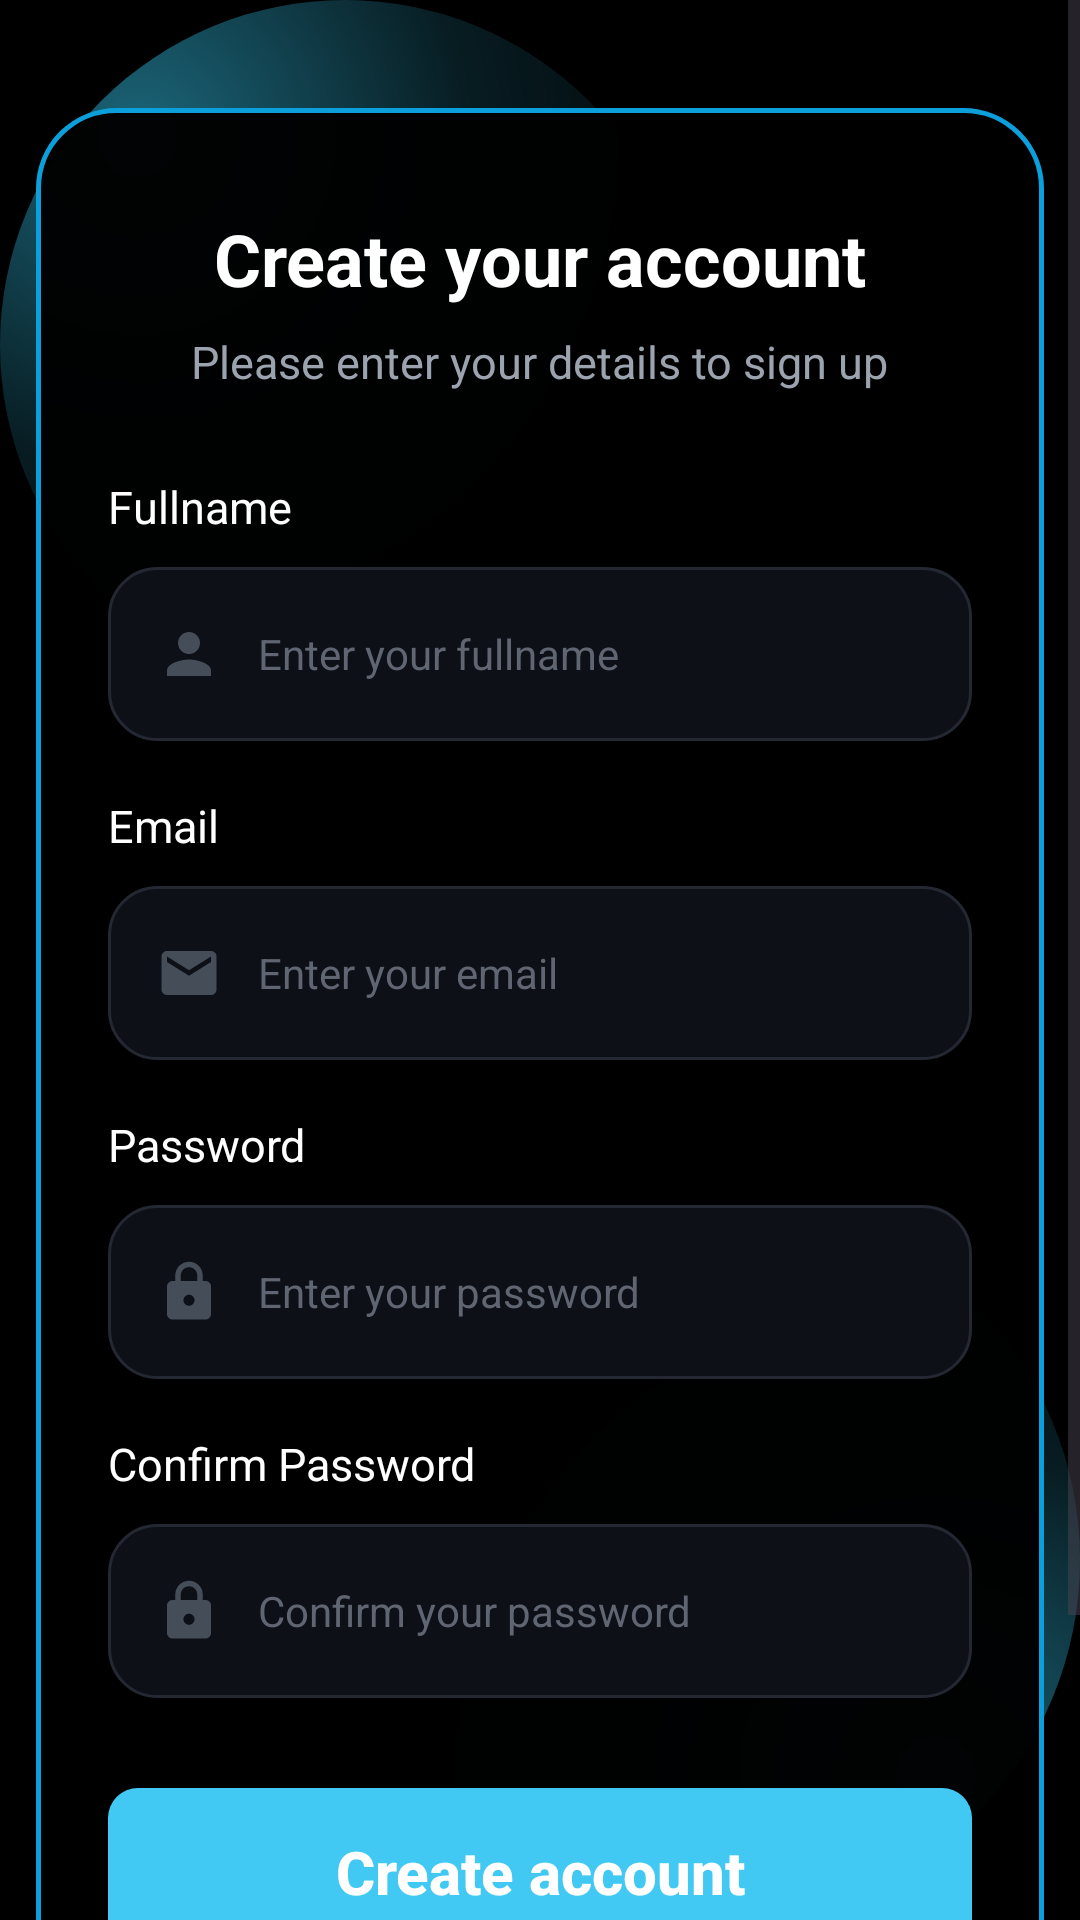

Icons on this 1080w x 1920h Android screen, each with its box as (left=x1, top=y1, right=x2, bottom=y2):
lock: (left=167, top=1262, right=211, bottom=1320), (left=167, top=1581, right=211, bottom=1639)
user: (left=167, top=632, right=211, bottom=676)
